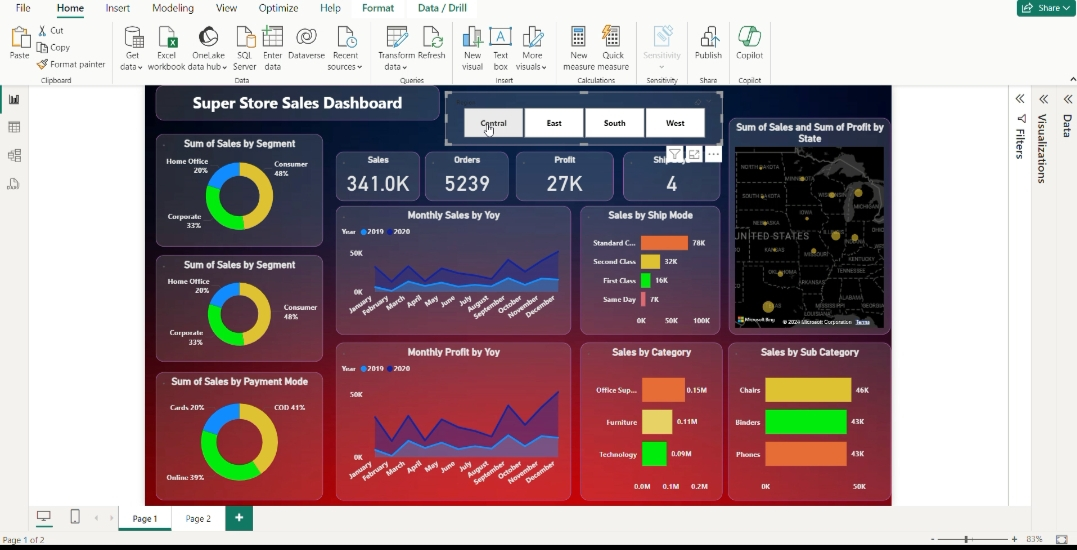

The page's visual inventory and layout, read from the dashboard file:
{"tool":"powerbi","page":{"name":"Page 1","canvas":[1280,720],"ordinal":0},"visuals":[{"type":"clusteredBarChart","title":"Sales by Category","fields":{"Category":["SuperStore_Sales_Dataset.Category"],"Y":["Sum(SuperStore_Sales_Dataset.Sales)"]},"box":[746.8,440.4,243.7,270.2],"z":0},{"type":"clusteredBarChart","title":"Sales by Sub Category","fields":{"Category":["SuperStore_Sales_Dataset.Sub-Category"],"Y":["Sum(SuperStore_Sales_Dataset.Sales)"]},"box":[1000.1,440.4,279.9,270.2],"z":1000},{"type":"clusteredBarChart","title":"Sales by Ship Mode","fields":{"Category":["SuperStore_Sales_Dataset.Ship Mode"],"Y":["Sum(SuperStore_Sales_Dataset.Sales)"]},"box":[746.8,206.3,240.1,220.8],"z":2000},{"type":"stackedAreaChart","title":"Monthly Sales by Yoy","fields":{"Y":["Sum(SuperStore_Sales_Dataset.Sales)"],"Category":["SuperStore_Sales_Dataset.Order Date.Variation.Date Hierarchy.Month","SuperStore_Sales_Dataset.Order Date.Variation.Date Hierarchy.Day"],"Series":["SuperStore_Sales_Dataset.Order Date.Variation.Date Hierarchy.Year"]},"box":[326.9,206.3,404.2,220.8],"z":3000},{"type":"stackedAreaChart","title":"Monthly Profit by Yoy","fields":{"Y":["Sum(SuperStore_Sales_Dataset.Sales)"],"Category":["SuperStore_Sales_Dataset.Order Date.Variation.Date Hierarchy.Month","SuperStore_Sales_Dataset.Order Date.Variation.Date Hierarchy.Day"],"Series":["SuperStore_Sales_Dataset.Order Date.Variation.Date Hierarchy.Year"]},"box":[326.9,440.4,404.2,270.2],"z":4000},{"type":"map","title":"Sum of Sales and Sum of Profit by State","fields":{"Category":["SuperStore_Sales_Dataset.State"],"Size":["Sum(SuperStore_Sales_Dataset.Sales)"]},"box":[1001.3,55.5,277.5,371.6],"z":5000},{"type":"donutChart","fields":{"Category":["SuperStore_Sales_Dataset.Segment"],"Y":["Sum(SuperStore_Sales_Dataset.Sales)"]},"box":[18.1,290.8,287.1,182.2],"z":6000},{"type":"donutChart","fields":{"Category":["SuperStore_Sales_Dataset.Payment Mode"],"Y":["Sum(SuperStore_Sales_Dataset.Sales)"]},"box":[18.1,491,287.1,219.6],"z":7000},{"type":"slicer","fields":{"Values":["SuperStore_Sales_Dataset.Region"]},"box":[515.2,10.9,475.3,91.7],"z":8000},{"type":"textbox","box":[18.1,0,487.4,60.3],"z":9000},{"type":"card","title":"Sales","fields":{"Values":["Sum(SuperStore_Sales_Dataset.Sales)"]},"box":[326.9,113.4,144.8,84.5],"z":10000},{"type":"card","title":"Orders","fields":{"Values":["Sum(SuperStore_Sales_Dataset.Quantity)"]},"box":[480.2,113.4,143.6,84.5],"z":11000},{"type":"card","title":"Profit","fields":{"Values":["Sum(SuperStore_Sales_Dataset.Profit)"]},"box":[635.8,113.4,167.7,84.5],"z":12000},{"type":"card","title":"Ship Days","fields":{"Values":["Avg(SuperStore_Sales_Dataset.AvgDelivery)"]},"box":[820.4,113.4,166.5,84.5],"z":13000},{"type":"donutChart","fields":{"Category":["SuperStore_Sales_Dataset.Segment"],"Y":["Sum(SuperStore_Sales_Dataset.Sales)"]},"box":[18.1,83.2,287.1,193],"z":14000}]}

Visuals, with their boxes on the page's 1280x720 design canvas (x1, y1, x2, y2). These are canvas units, not pixel positions in the 1077x550 screenshot, which may show the page scaled, cropped or inside an application window:
"Sales by Category" clusteredBarChart: (747,440,990,711)
"Sales by Sub Category" clusteredBarChart: (1000,440,1280,711)
"Sales by Ship Mode" clusteredBarChart: (747,206,987,427)
"Monthly Sales by Yoy" stackedAreaChart: (327,206,731,427)
"Monthly Profit by Yoy" stackedAreaChart: (327,440,731,711)
"Sum of Sales and Sum of Profit by State" map: (1001,56,1279,427)
donutChart - SuperStore_Sales_Dataset.Segment x Sum(SuperStore_Sales_Dataset.Sales): (18,291,305,473)
donutChart - SuperStore_Sales_Dataset.Payment Mode x Sum(SuperStore_Sales_Dataset.Sales): (18,491,305,711)
slicer - SuperStore_Sales_Dataset.Region: (515,11,990,103)
textbox: (18,0,506,60)
"Sales" card: (327,113,472,198)
"Orders" card: (480,113,624,198)
"Profit" card: (636,113,804,198)
"Ship Days" card: (820,113,987,198)
donutChart - SuperStore_Sales_Dataset.Segment x Sum(SuperStore_Sales_Dataset.Sales): (18,83,305,276)
